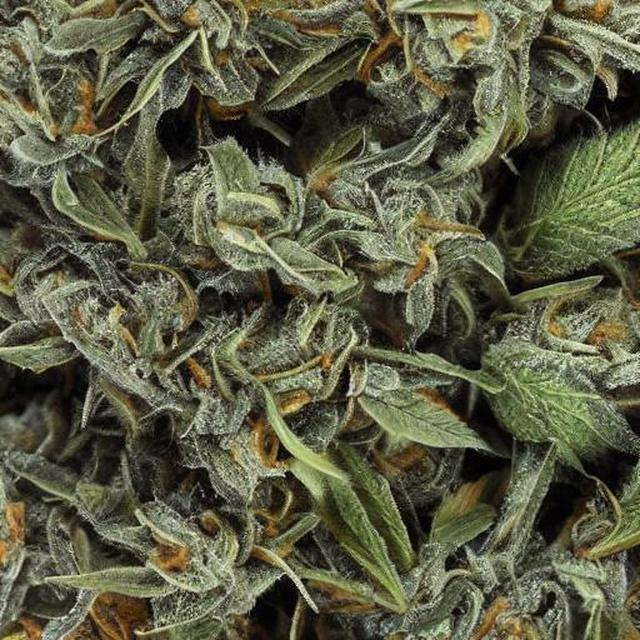Marijuana Plant: (181, 51, 589, 361), (0, 201, 250, 533), (452, 362, 639, 593)
